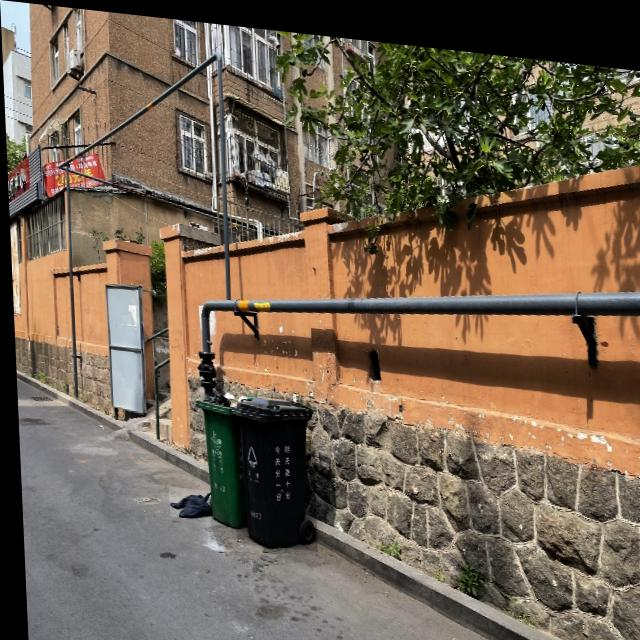garbage: (164, 483, 207, 517)
garbage_bin: (227, 387, 313, 545)
overflow: (191, 381, 242, 524)
